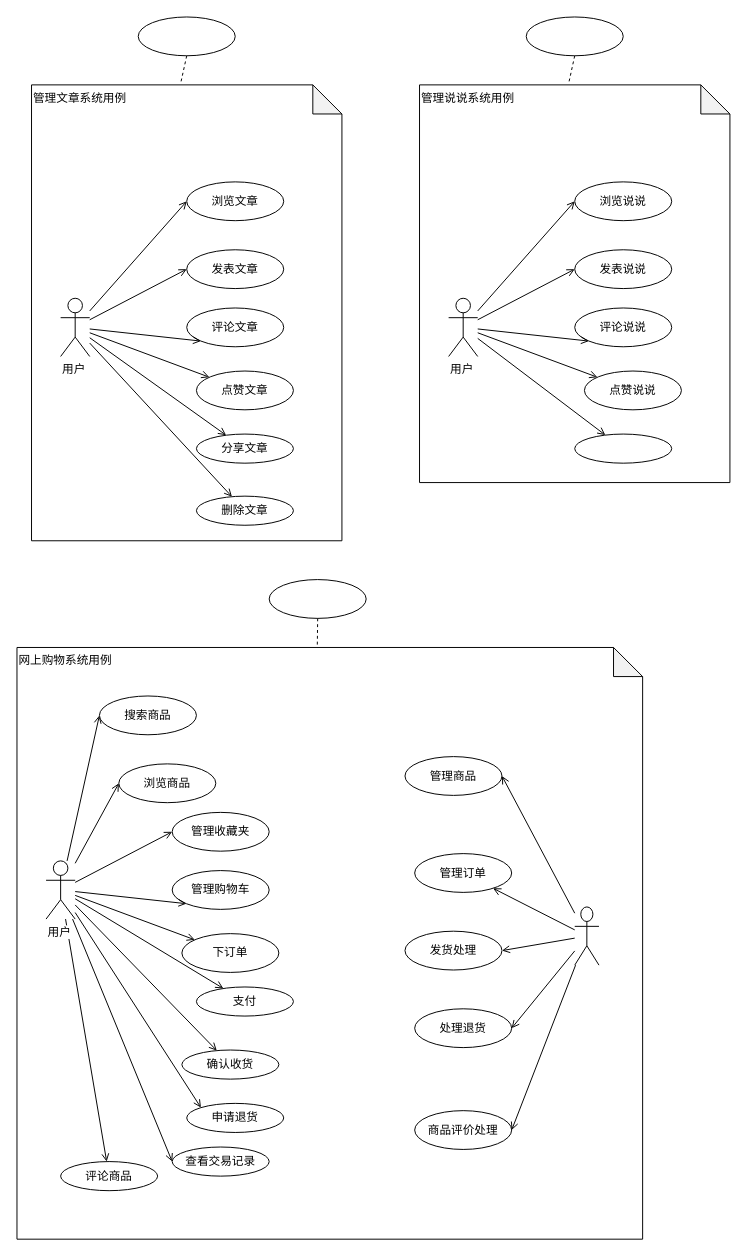
This 747x1256 diagram has some shape labels left out. The centre of each missing label's shape, as x and y in pixels:
删除说说: point 623,448
管理员: point 586,935
管理文章: point 186,36
管理说说: point 574,36
网上购物: point 317,598
